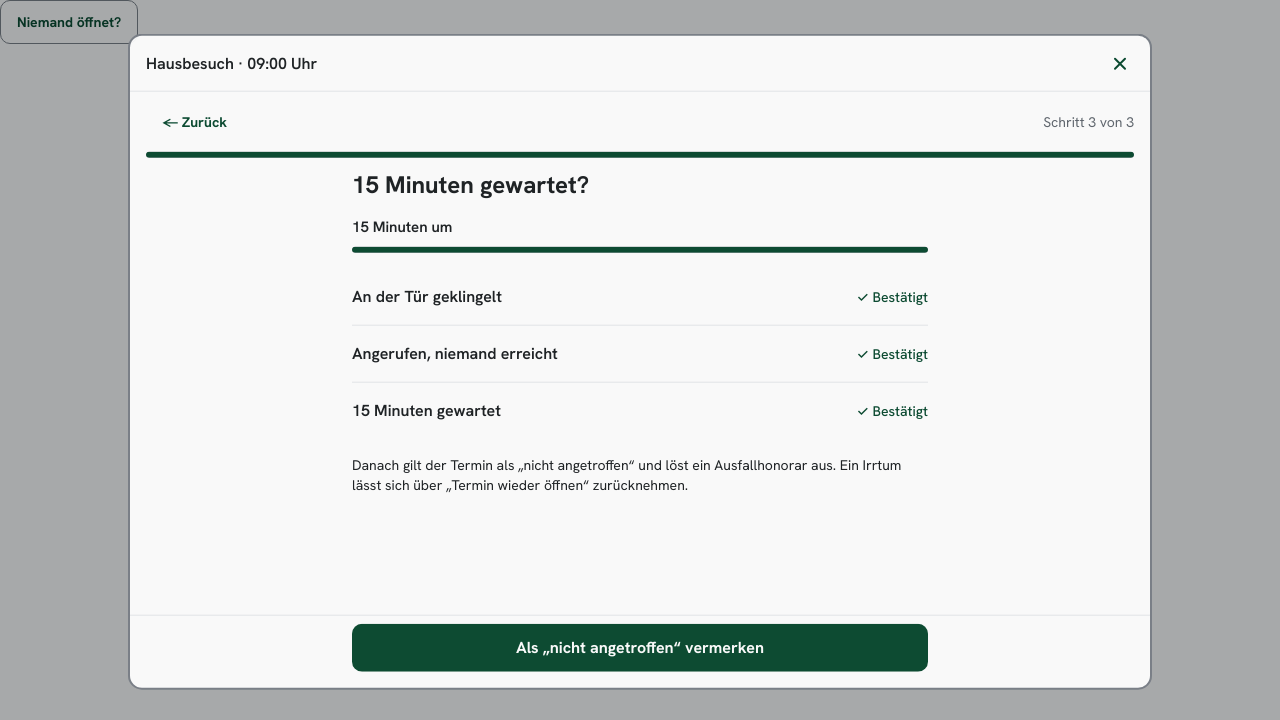
Test: Niemand öffnet - geführt (G1, ANN-573) › bietet die Rufnummer als Knopf und „erreicht“ schließt ohne Vermerk
This screenshot has width=1280, height=720.
Click the button "Niemand öffnet?".
click(69, 22)  # box [0,0,138,44]
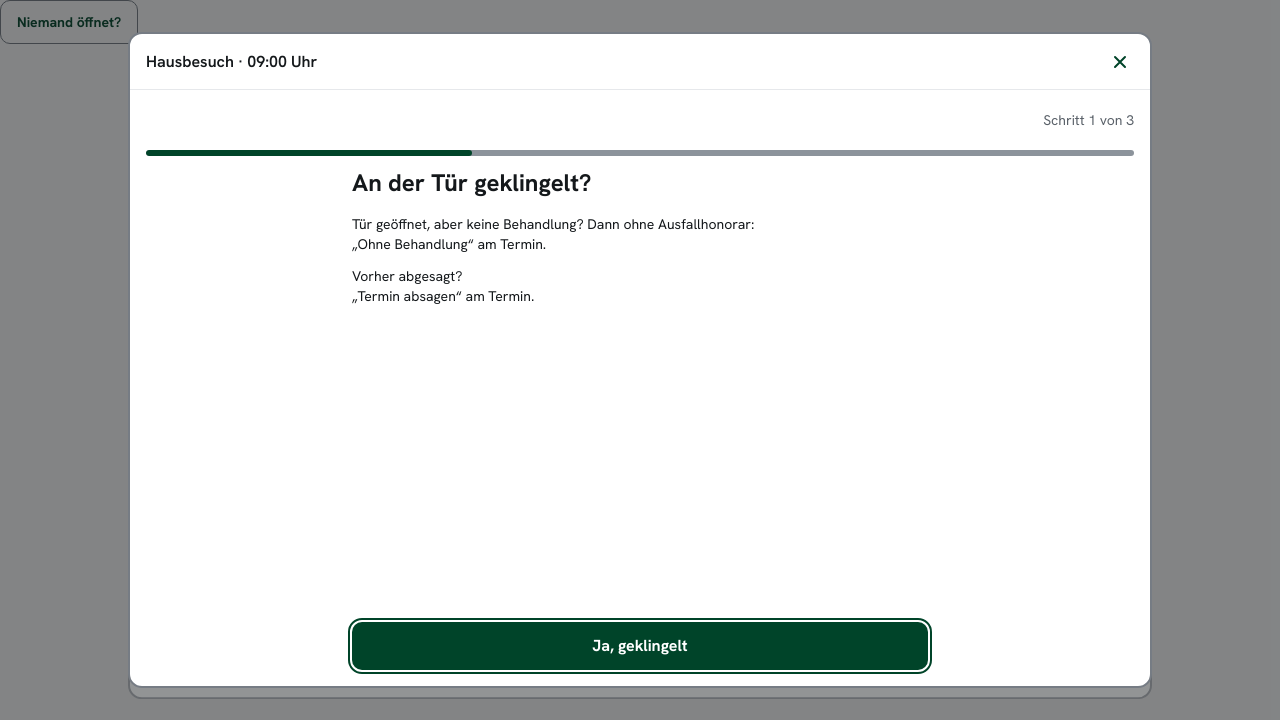
Click the button "Ja, geklingelt".
click(640, 646)  # box [352,622,928,670]
Wait 750 ms
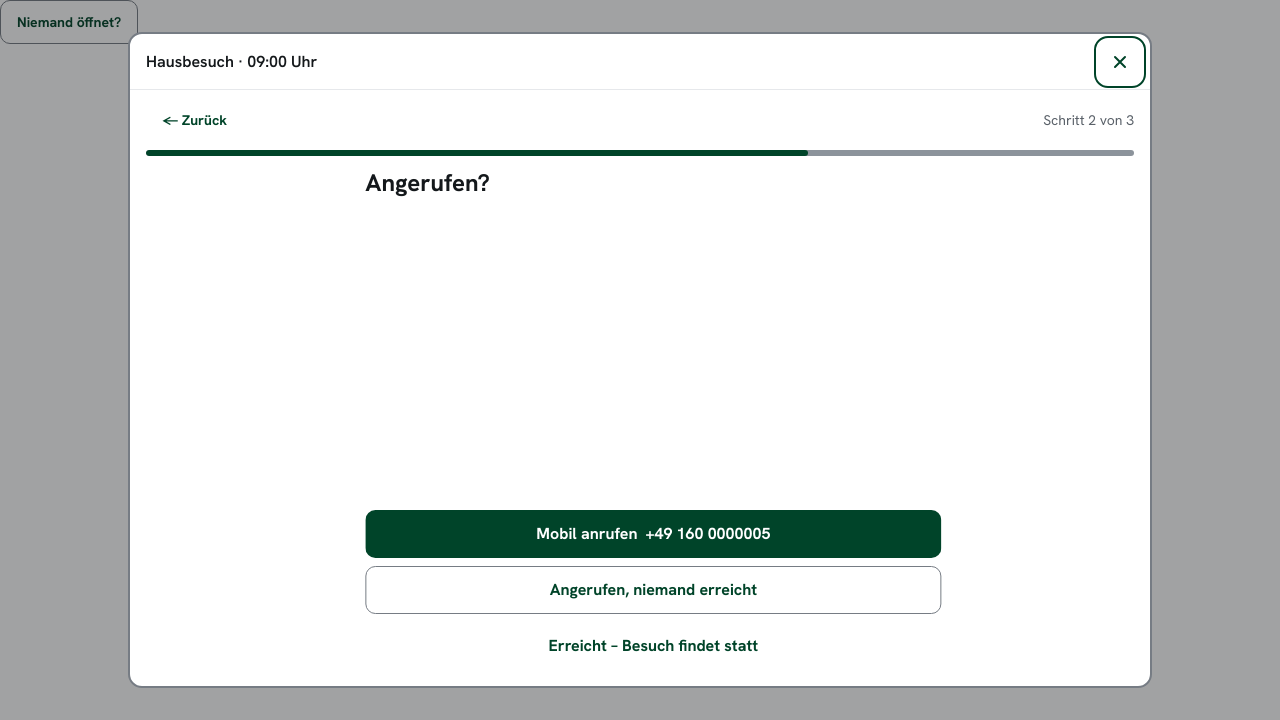
Click the button "Erreicht – Besuch findet statt".
click(646, 646)  # box [358,622,934,670]
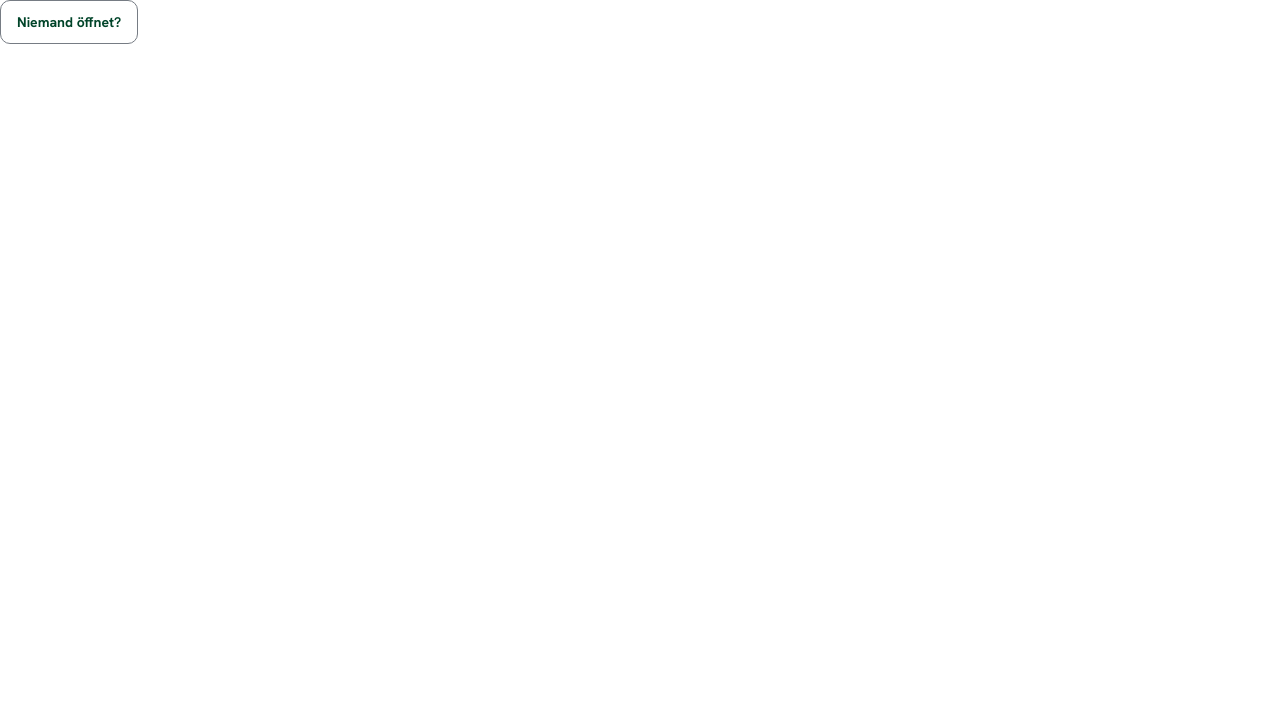
Result: the dialog is gone
